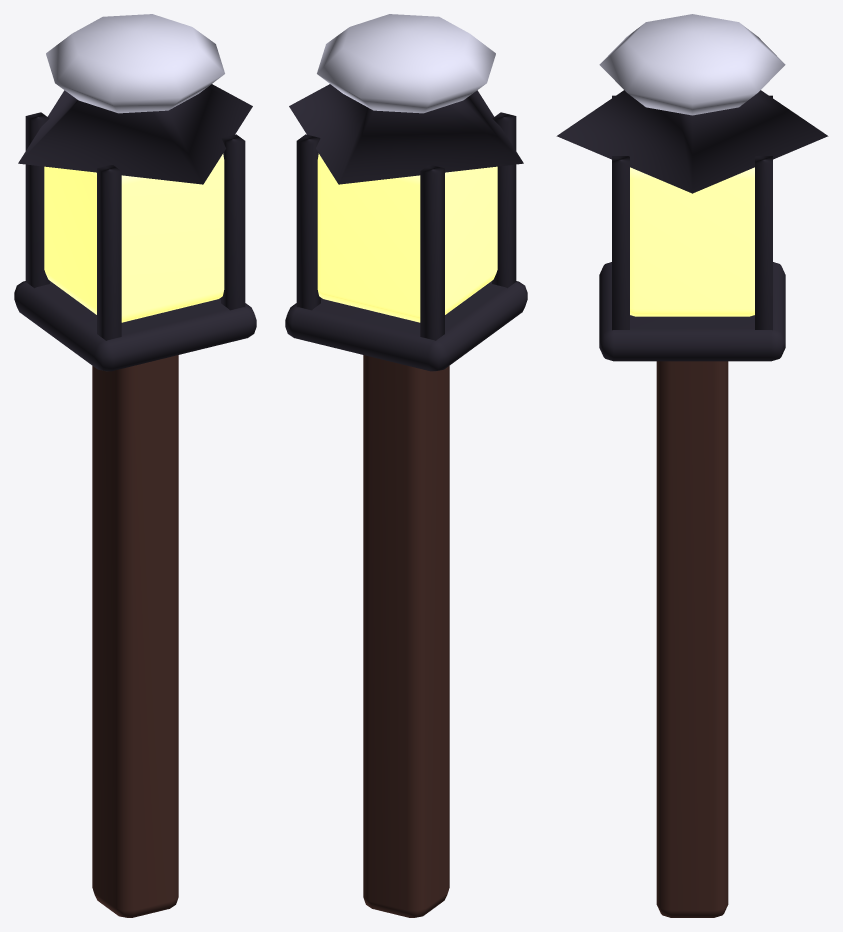
The model's file is frost_trail_lantern.glb.
3 renders of one model, left to right at view 1: azimuth 30°, elevation 25°; view 2: azimuth 150°, elevation 25°; view 3: azimuth 270°, elevation 25°, orthographic.
Visible parts, largest first — view 1: TrailLantern; view 2: TrailLantern; view 3: TrailLantern.
Boxes of the visible parts, x1,y1,x2,y2 form: TrailLantern: [14, 14, 256, 917]; TrailLantern: [285, 14, 527, 917]; TrailLantern: [556, 14, 828, 917].
Bounding box in the file's own units: 0.38 × 1.35 × 0.38.
